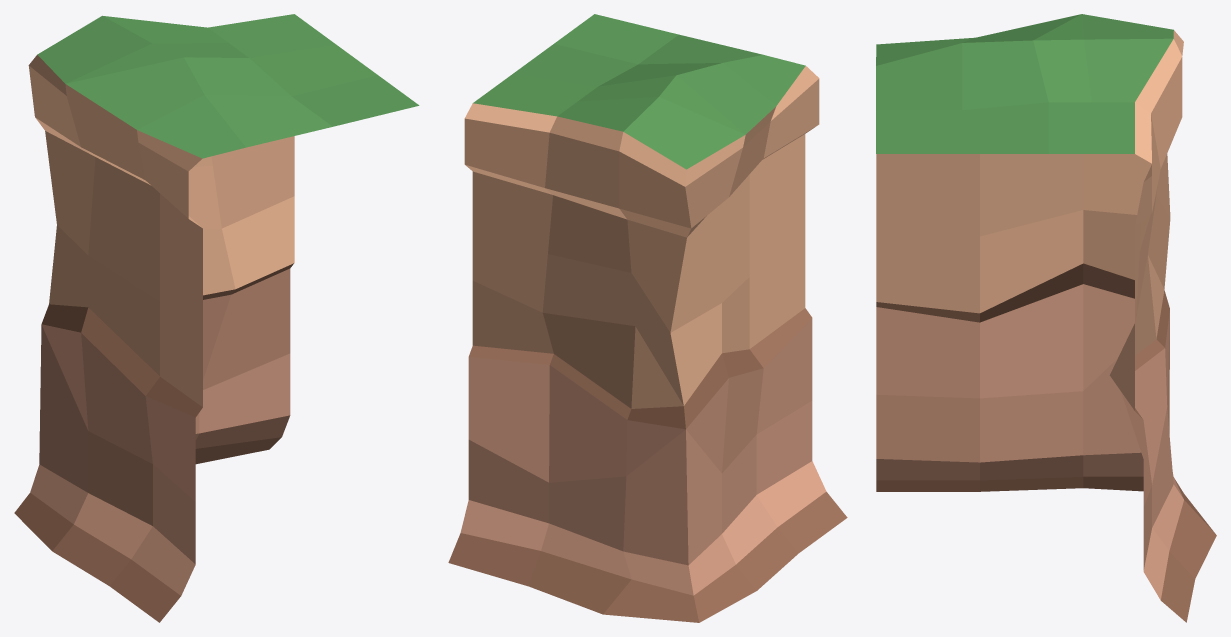
Rendered from CliffCornerConcave.fbx.
The picture shows the model from 3 angles, left to right: view 1: azimuth 30°, elevation 25°; view 2: azimuth 150°, elevation 25°; view 3: azimuth 270°, elevation 25°; orthographic projection. The views are drawn at different scales.
Parts seen in each view (by area): view 1: CliffCornerConcave; view 2: CliffCornerConcave; view 3: CliffCornerConcave.
Boxes of the visible parts, box(x1,y1,x2,y2) form: CliffCornerConcave: box(14, 14, 419, 622); CliffCornerConcave: box(448, 14, 847, 622); CliffCornerConcave: box(876, 14, 1216, 622).
Size of the model in its own units: 12311 by 21374 by 13155.
